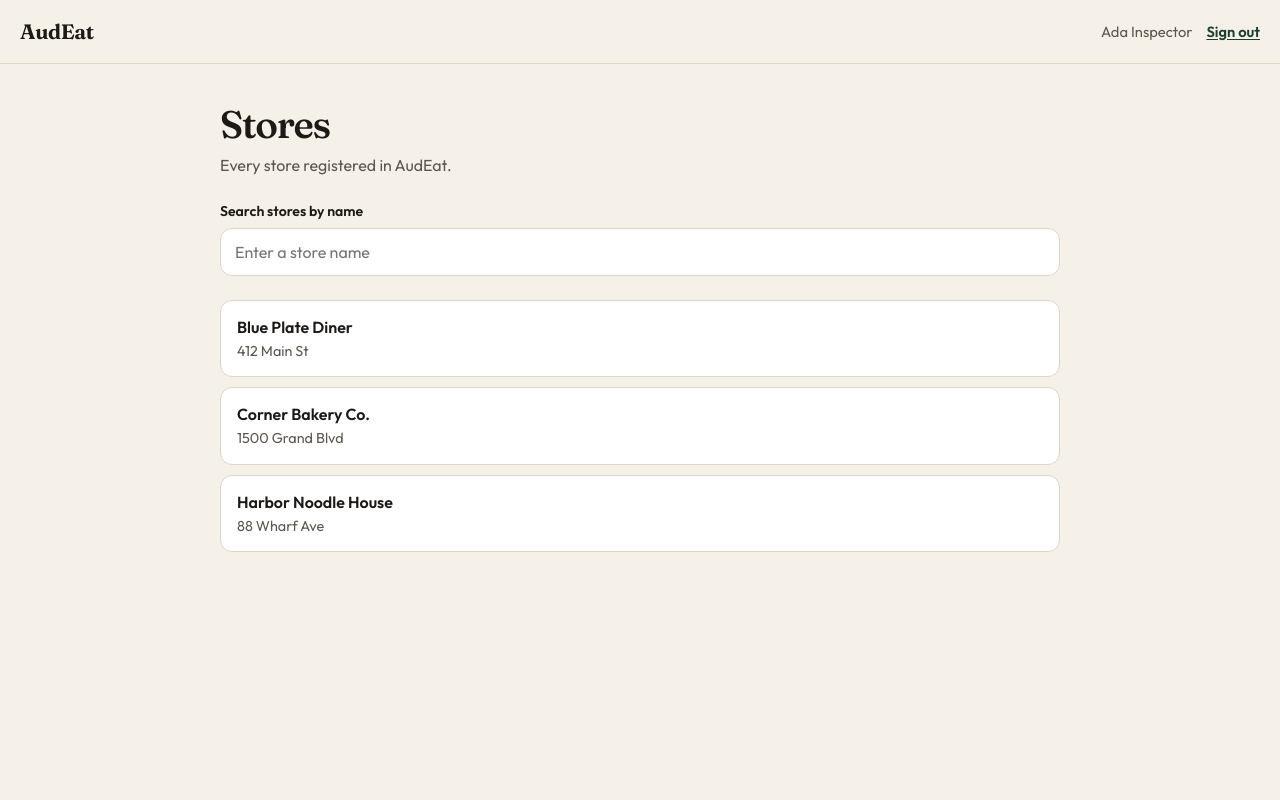
Test: inspector store selection (US 14) › AC 14.1: selecting a store shows its details and inspection options
This screenshot has width=1280, height=800.
Click the link "Harbor Noodle House 88 Wharf Ave".
click(315, 502)  # box [220,475,1060,552]
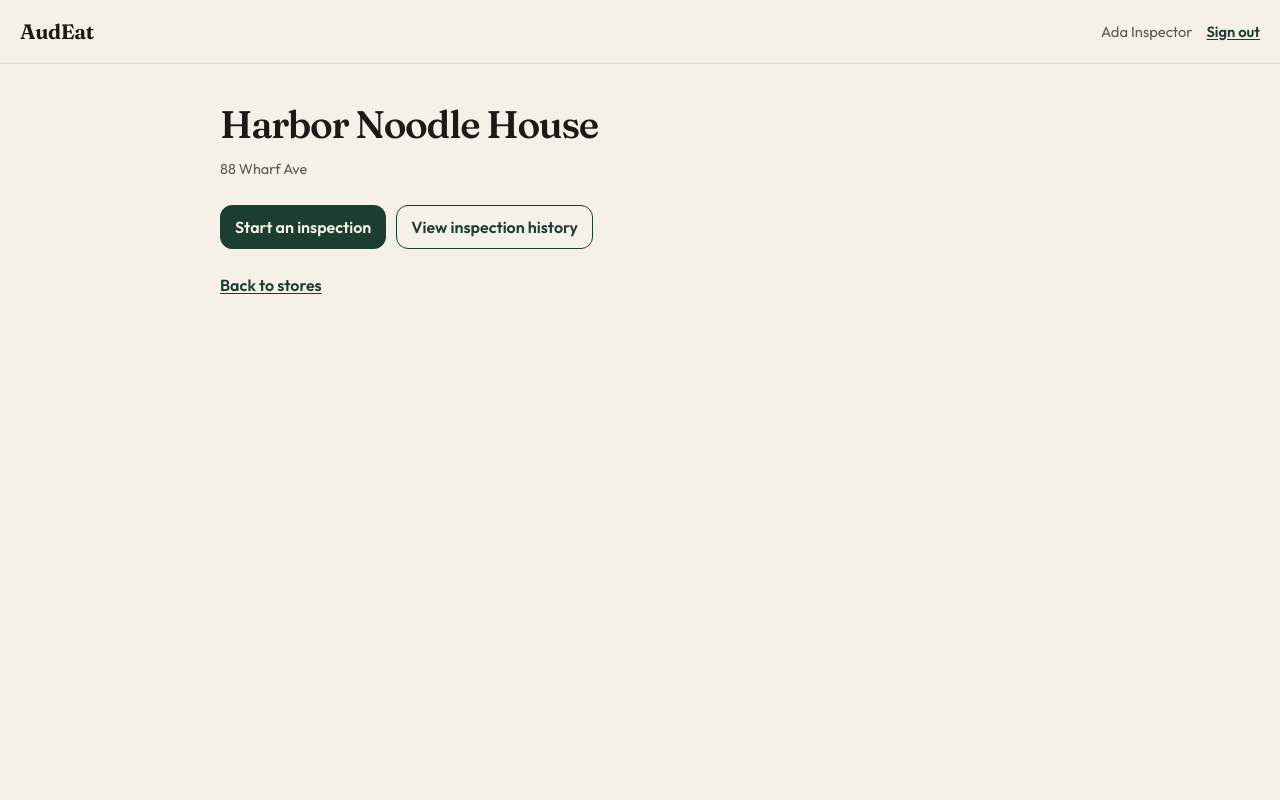
Check: the text "88 Wharf Ave" is shown, box [220,160,307,178]
Check: the heading "Harbor Noodle House" is shown, box [220,100,598,148]
